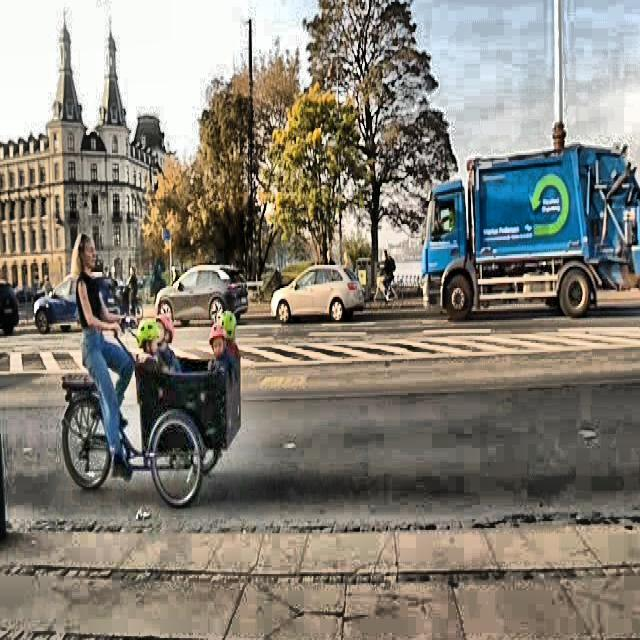ladcykel: (64, 326, 242, 510)
